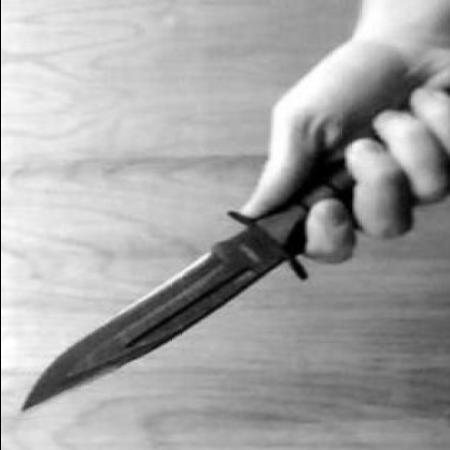long weapon: (13, 76, 448, 418)
